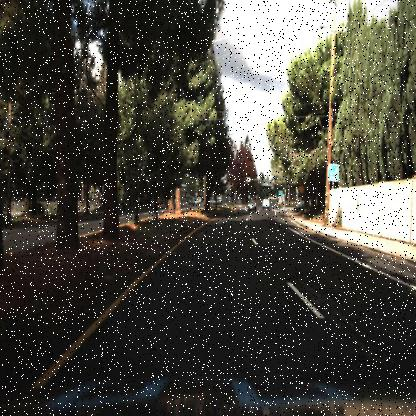car: (260, 191, 271, 207)
trafficLight-Red: (282, 182, 287, 192)
